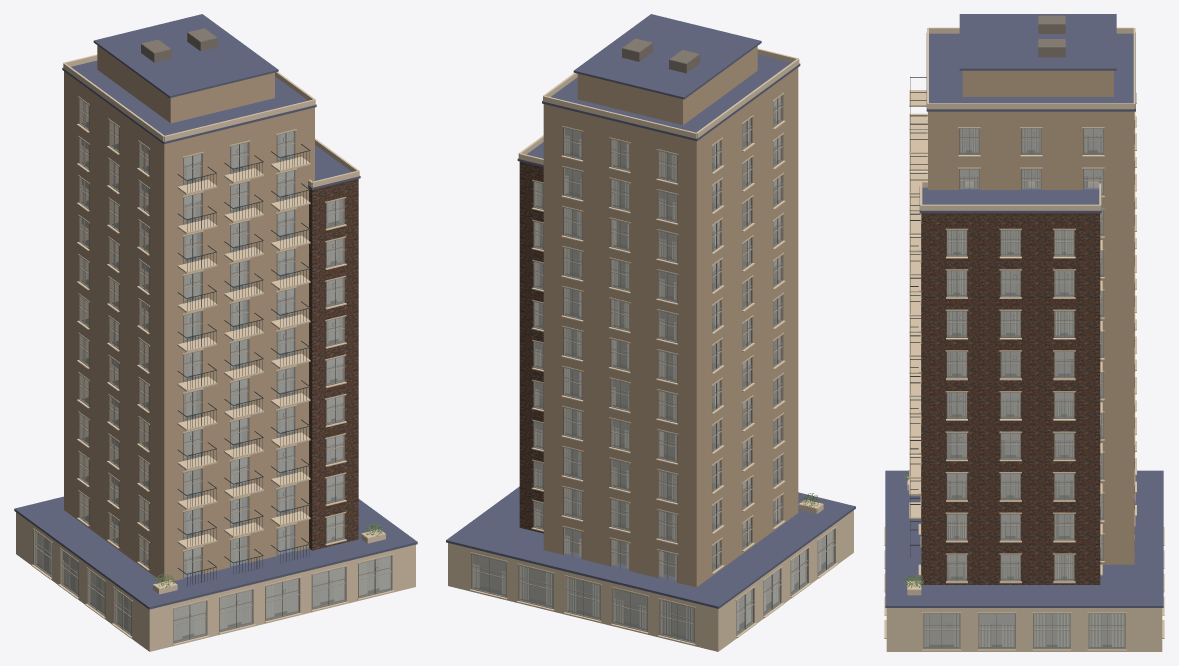
File: residential-tower.glb
3 views of the same model, side by side, from view 1: azimuth 30°, elevation 25°; view 2: azimuth 150°, elevation 25°; view 3: azimuth 270°, elevation 25° (orthographic). The views are drawn at different scales.
Visible parts, largest first — view 1: residential-tower; view 2: residential-tower; view 3: residential-tower.
Part boxes in pixels (x1,y1,x2,y2): residential-tower: (14,14,417,651); residential-tower: (446,14,855,651); residential-tower: (884,14,1164,651).
Bounding box in the file's own units: 23.35 × 43.4 × 20.35.
13 materials, 1 textured.
